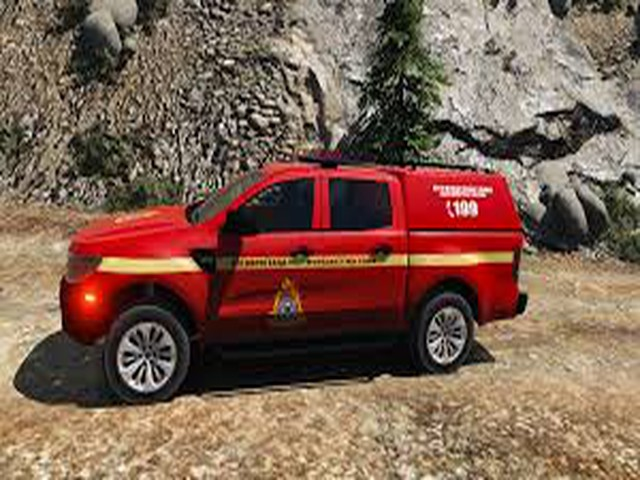Vehicle: (55, 150, 534, 401)
